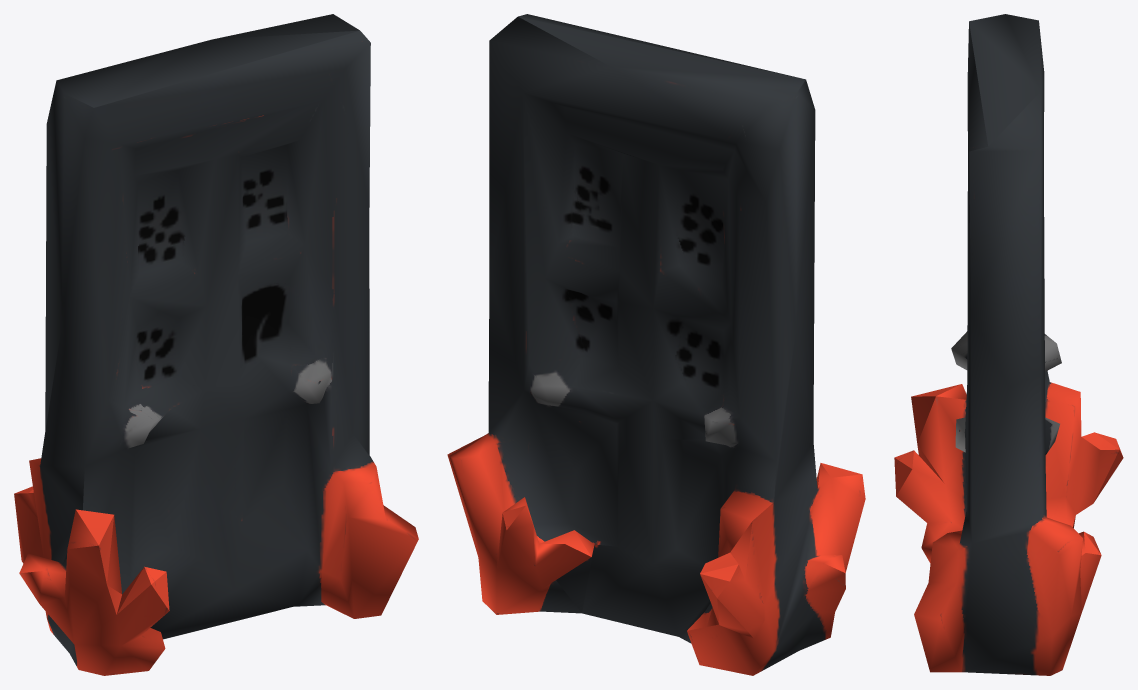
File: exit-door-op.glb
3 views of the same model, side by side, from view 1: azimuth 30°, elevation 25°; view 2: azimuth 150°, elevation 25°; view 3: azimuth 270°, elevation 25° (orthographic). The views are drawn at different scales.
Visible parts, largest first — view 1: geometry_0.001; view 2: geometry_0.001; view 3: geometry_0.001.
Part boxes in pixels (x1,y1,x2,y2): geometry_0.001: (14,14,418,675); geometry_0.001: (447,14,865,675); geometry_0.001: (894,14,1123,675).
Size of the model in its own units: 0.6814 by 1 by 0.3904.
1 material, 1 textured.
